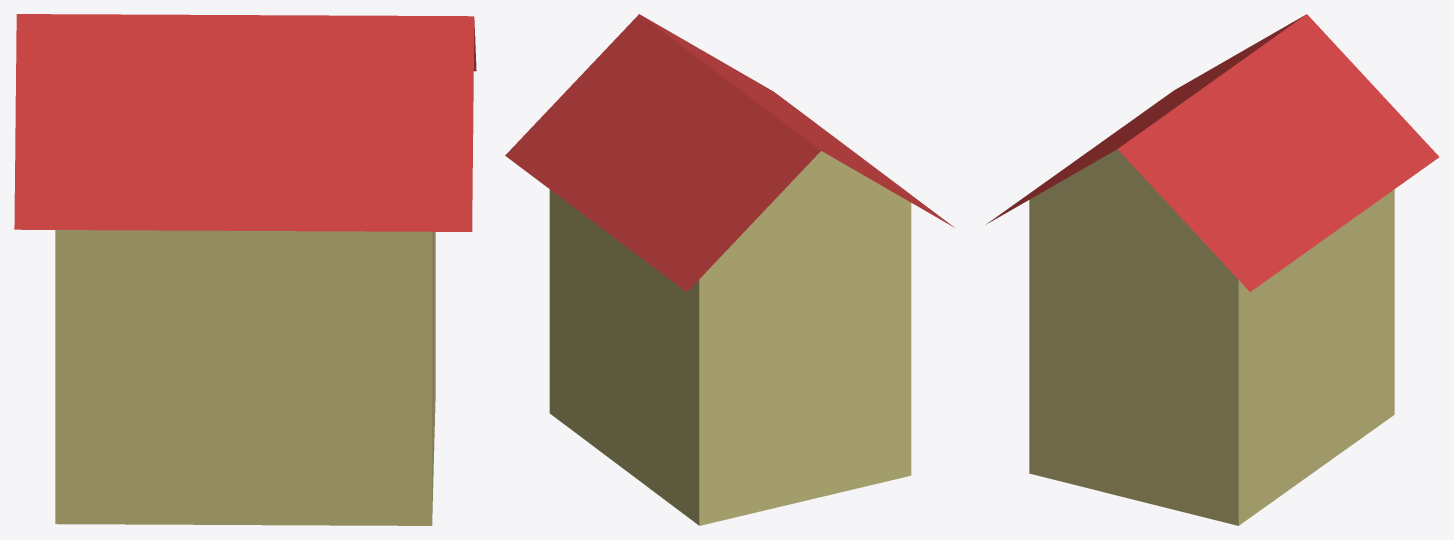
3 views of the same model, side by side, from view 1: azimuth 30°, elevation 25°; view 2: azimuth 150°, elevation 25°; view 3: azimuth 270°, elevation 25° (orthographic). The views are drawn at different scales.
Size of the model in its own units: 10.89 by 10.38 by 9.13.
